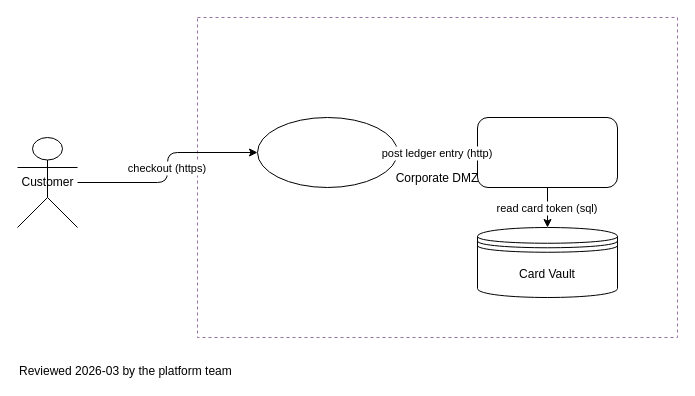
The diagram is 695 pixels wide and 396 high, and some of its shapes have lost their labels. Here are the shapes that lost their labels. From the top down, the centre of each, then its label:
At [327,152]: "Checkout API".
At [547,152]: "Ledger service".
